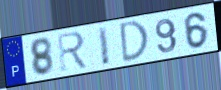6: (182, 11, 209, 50)
8: (29, 36, 56, 78)
9: (153, 17, 177, 54)
D: (119, 19, 150, 65)
I: (96, 24, 112, 67)
R: (56, 30, 90, 73)
